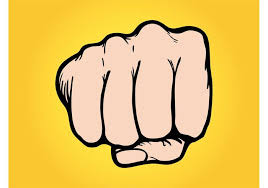fist: (78, 35, 204, 163)
